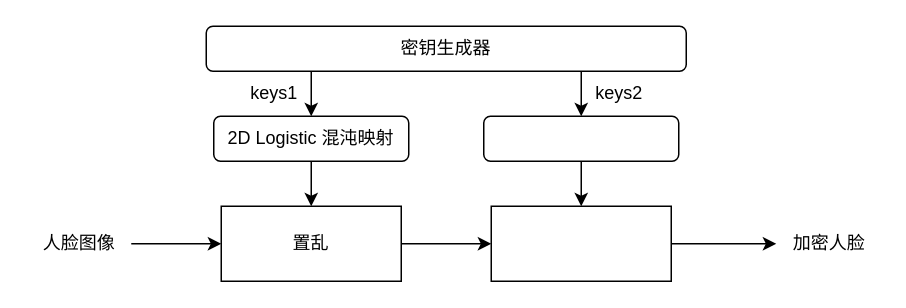
The diagram is 906 pixels wide and 308 high, and some of its shapes have lost their labels. Each missing label, with the box of its shape:
2D Henon 混沌映射: (482, 115, 679, 161)
扩散: (490, 205, 671, 281)
